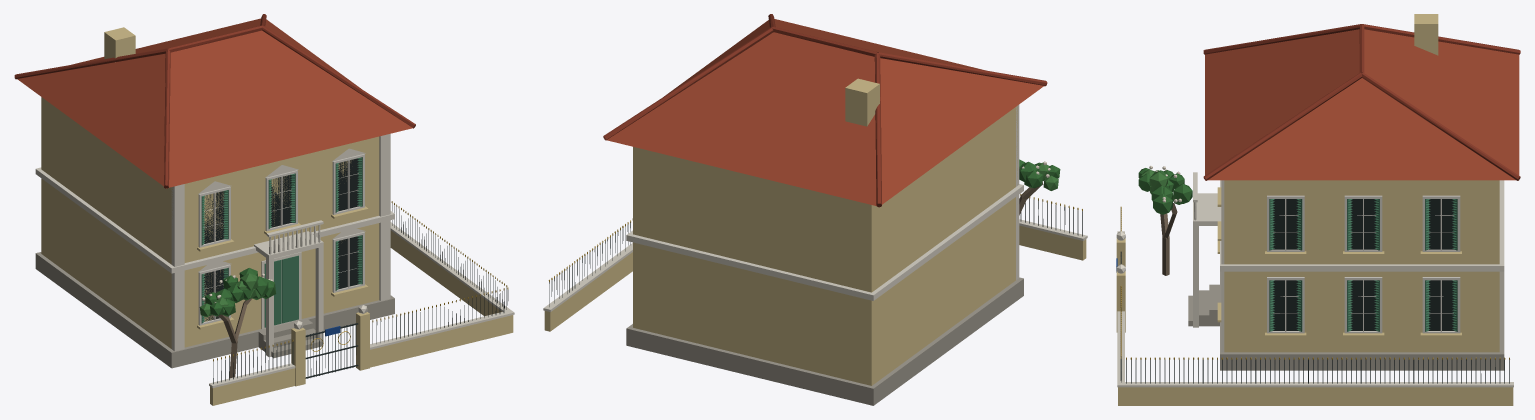
The model's file is biet_thu.glb.
3 views of the same model, side by side, from view 1: azimuth 30°, elevation 25°; view 2: azimuth 150°, elevation 25°; view 3: azimuth 270°, elevation 25° (orthographic). The views are drawn at different scales.
Parts seen in each view (by area): view 1: biet_thu; view 2: biet_thu; view 3: biet_thu.
Boxes of the visible parts, x1,y1,x2,y2 form: biet_thu: [14, 14, 514, 405]; biet_thu: [543, 14, 1087, 405]; biet_thu: [1116, 14, 1520, 405].
Size of the model in its own units: 12.41 by 9.8 by 13.51.
